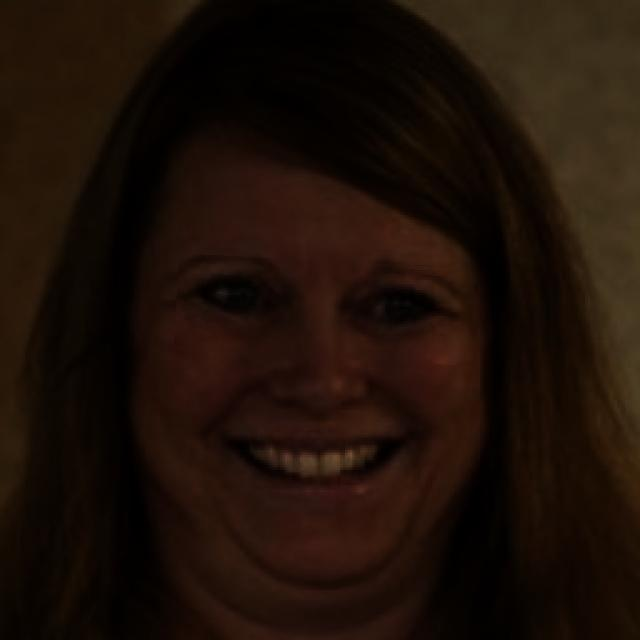no-glasses: (175, 257, 479, 362)
